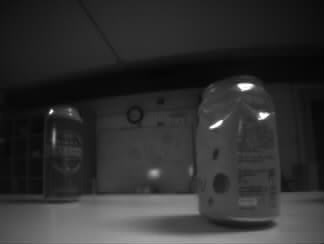Tin can: (196, 77, 281, 222), (44, 106, 81, 198)
